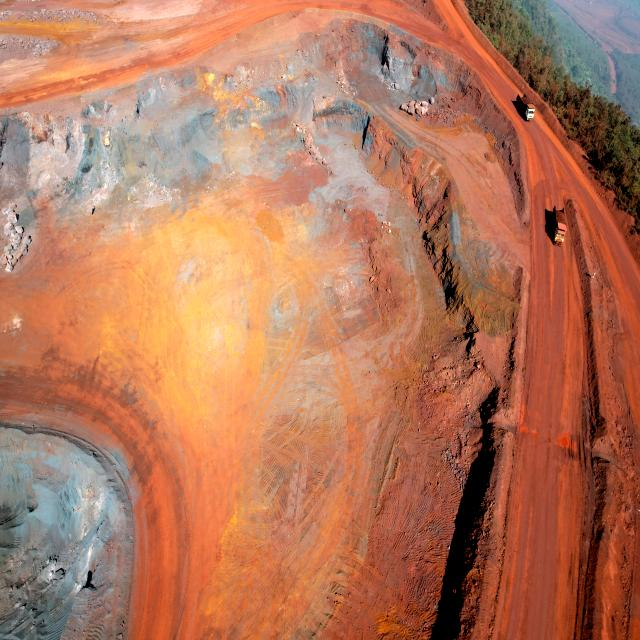Dumper truck: (551, 206, 564, 243), (518, 94, 534, 120)
